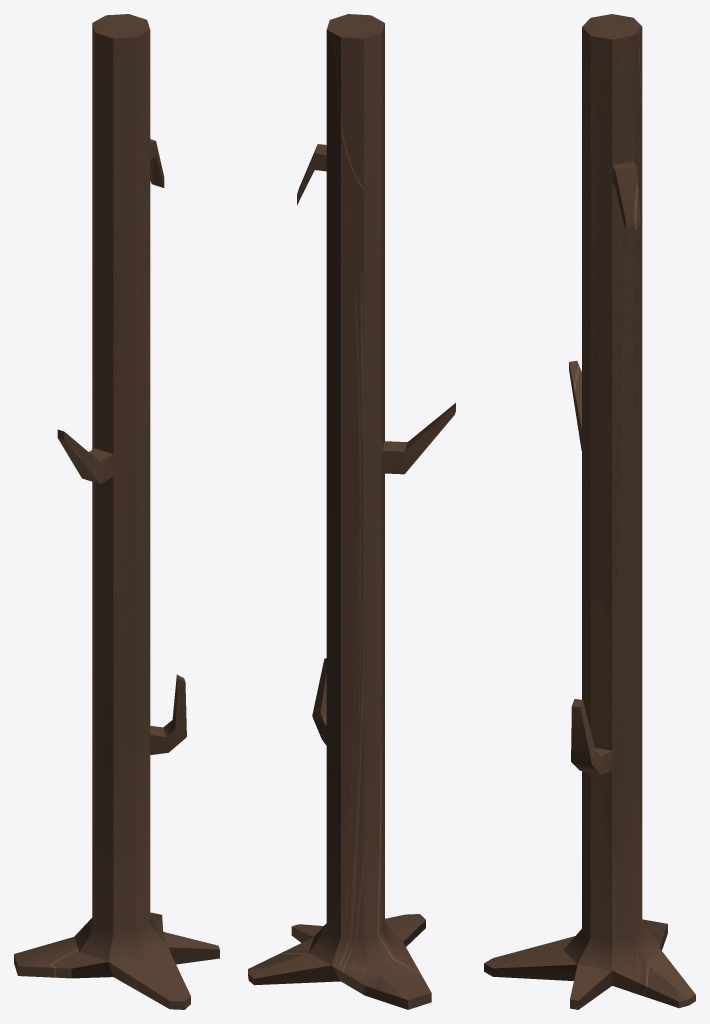
The model's file is tree02.fbx.
The picture shows the model from 3 angles, left to right: view 1: azimuth 30°, elevation 25°; view 2: azimuth 150°, elevation 25°; view 3: azimuth 270°, elevation 25°; orthographic projection.
Parts seen in each view (by area): view 1: tree02; view 2: tree02; view 3: tree02.
Boxes of the visible parts, bbox=[...] form: tree02: bbox=[14, 14, 219, 1009]; tree02: bbox=[248, 14, 455, 1009]; tree02: bbox=[484, 14, 695, 1009].
Size of the model in its own units: 6.54 by 34.52 by 7.01.
